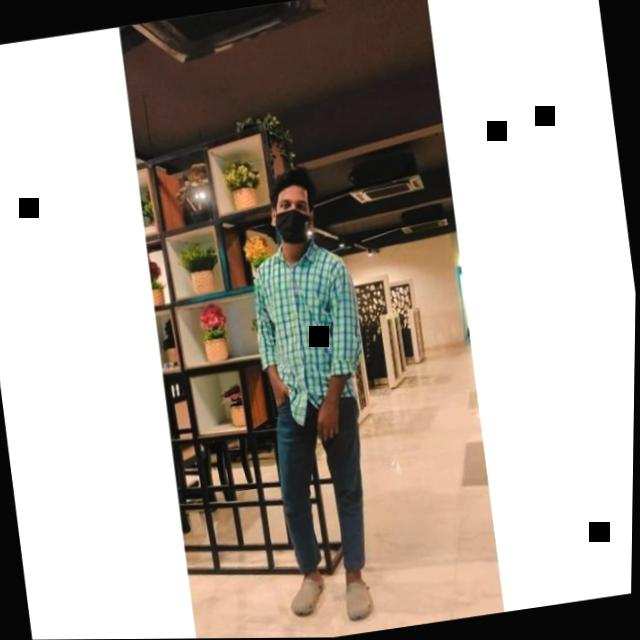Mask: (272, 184, 318, 247)
